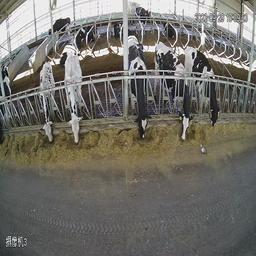cow: (155, 44, 189, 140), (190, 43, 222, 130), (127, 34, 150, 138), (64, 57, 87, 146), (37, 64, 59, 142), (48, 14, 71, 45), (62, 29, 86, 57), (135, 6, 151, 34), (163, 17, 177, 40), (86, 21, 100, 43), (112, 19, 122, 38)
